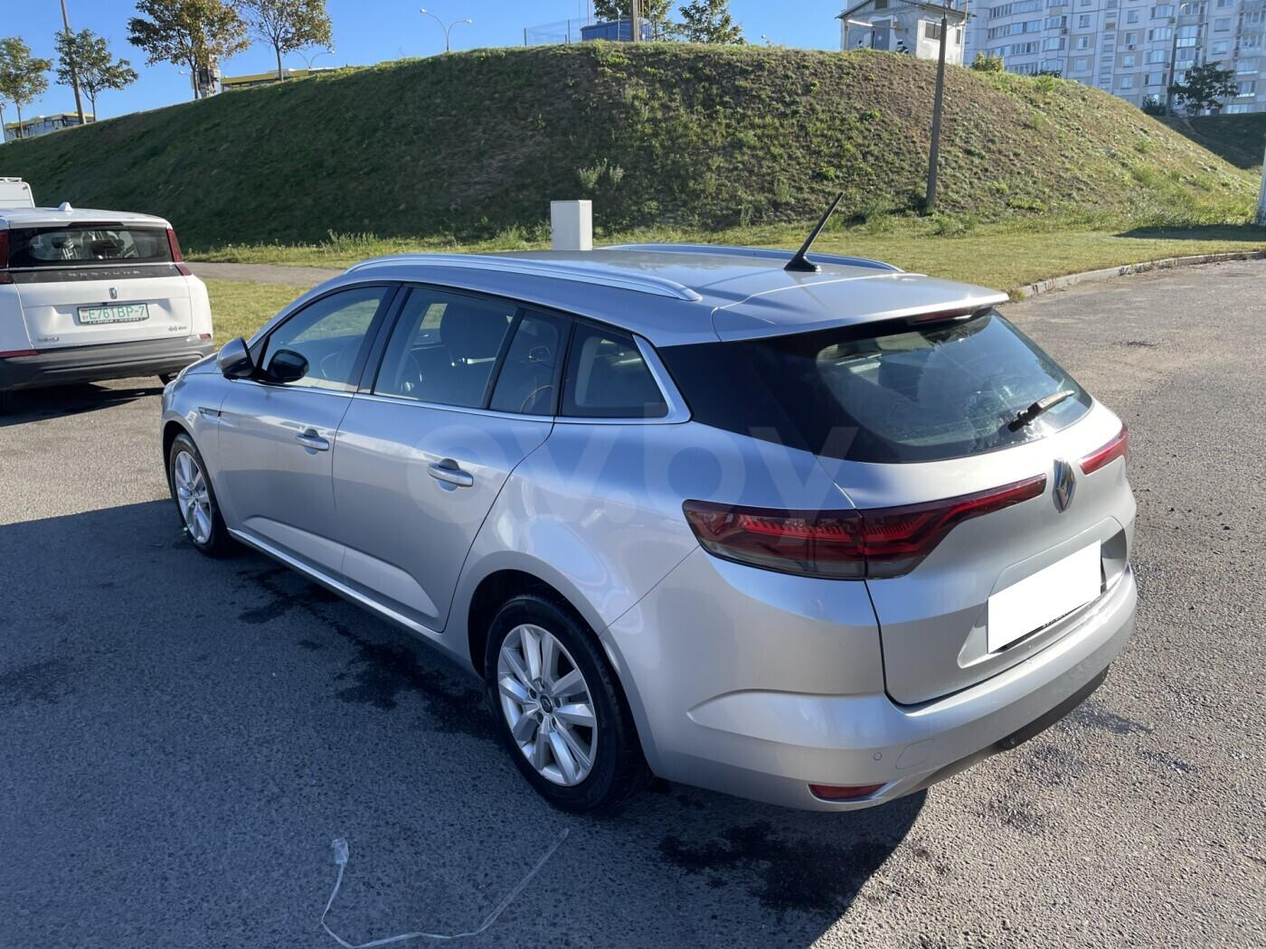Megane_2020: (152, 235, 1146, 820)
